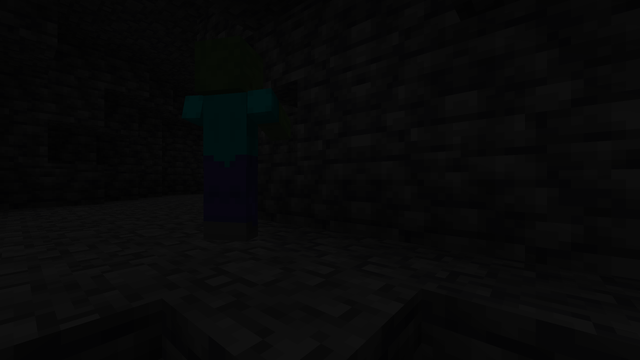zombies: (190, 33, 271, 247)
